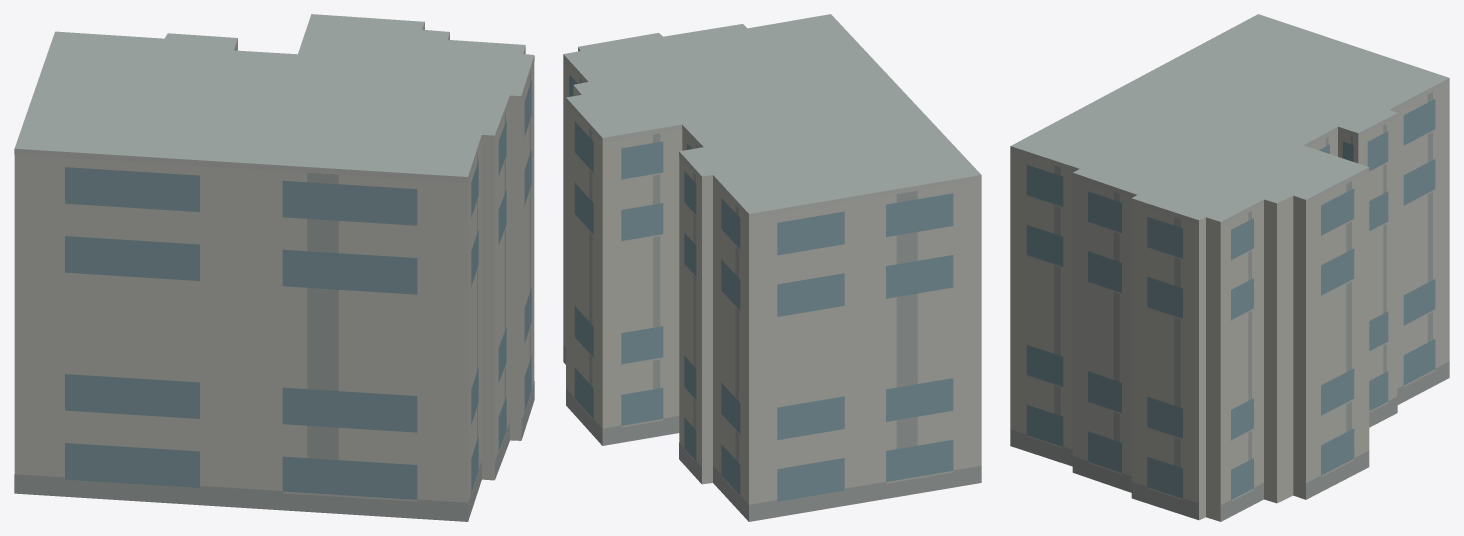
Rendered from survey-upis-32970186.glb.
The picture shows the model from 3 angles, left to right: view 1: azimuth 30°, elevation 25°; view 2: azimuth 150°, elevation 25°; view 3: azimuth 270°, elevation 25°; orthographic projection. The views are drawn at different scales.
Visible parts, largest first — view 1: survey-upis-32970186.tmp; view 2: survey-upis-32970186.tmp; view 3: survey-upis-32970186.tmp.
Boxes of the visible parts, x1,y1,x2,y2 form: survey-upis-32970186.tmp: (14,14,534,521); survey-upis-32970186.tmp: (563,14,981,521); survey-upis-32970186.tmp: (1010,14,1449,521).
Size of the model in its own units: 21.41 by 14.4 by 19.11.
